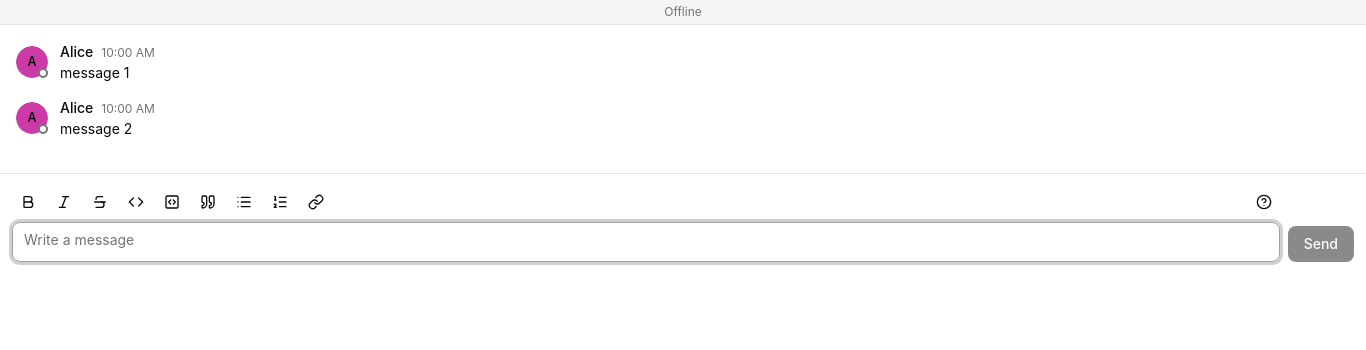
Test case: marks the message failed on room.read_only and retries it
Expected: the text "message 2" is shown, [60,120,132,137]
In the field named "Message": coordinates (646, 242) [12,222,1280,262], type "try me"
Then press Enter
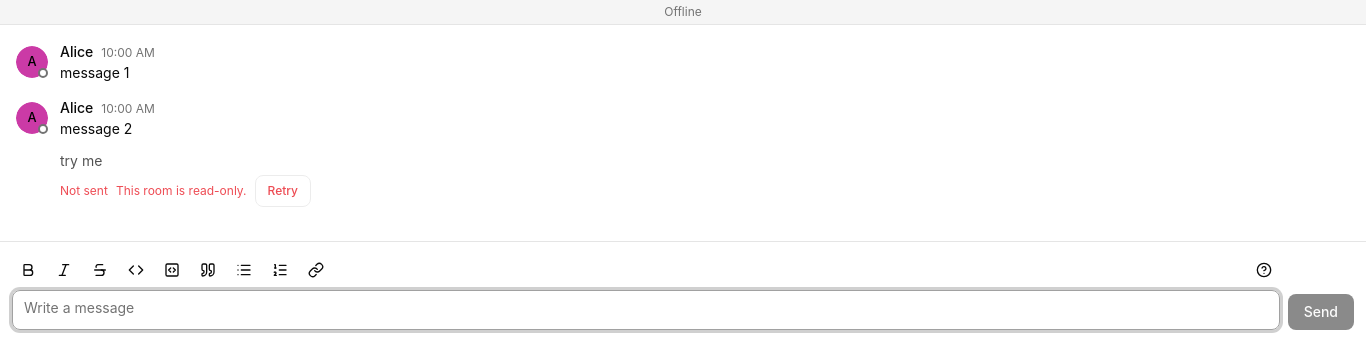
Expected: the message "Not sent This room is read-only. Retry" is shown, [60,175,311,207]
Click the button "Retry": coordinates (283, 191) [254,175,311,207]
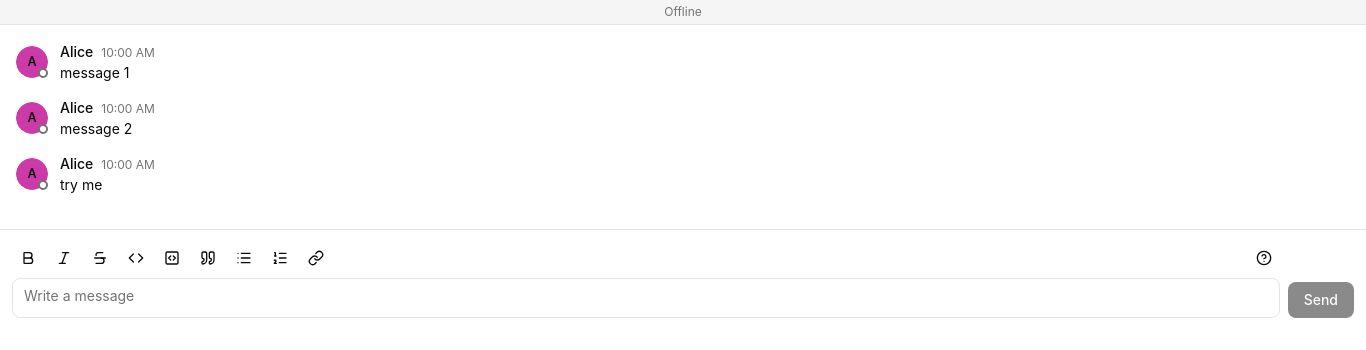
Expected: the text "try me" is shown once, [60,176,102,193]
Expected: the message "Not sent This room is read-only. Retry" is gone
